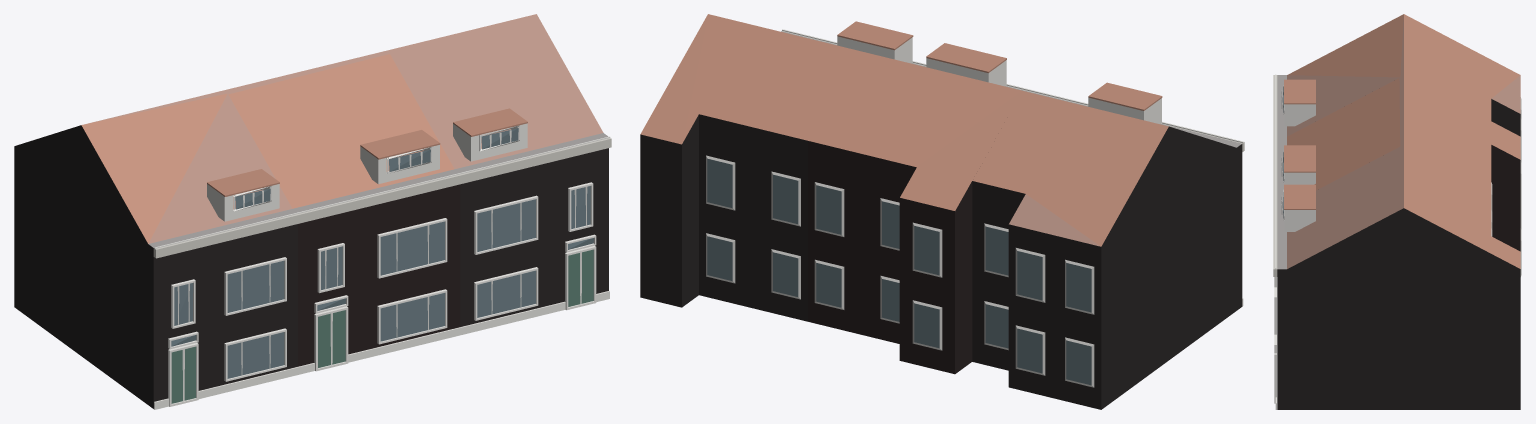
Rendered from chunk-face-meeuwenplein-1-7-r1.lod2.glb.
The picture shows the model from 3 angles, left to right: view 1: azimuth 30°, elevation 25°; view 2: azimuth 150°, elevation 25°; view 3: azimuth 270°, elevation 25°; orthographic projection. The views are drawn at different scales.
Parts seen in each view (by area): view 1: lod2; view 2: lod2; view 3: lod2.
Part boxes in pixels (x1=…): lod2: x1=14, y1=14, x2=611, y2=409; lod2: x1=640, y1=14, x2=1244, y2=409; lod2: x1=1273, y1=14, x2=1521, y2=409.
Bounding box in the file's own units: 19.13 × 9.28 × 10.35.
